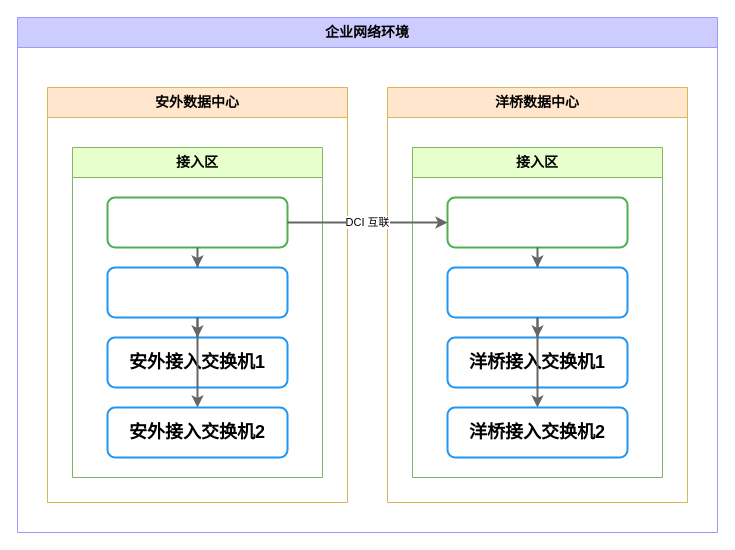
This 735x550 diagram has some shape labels left out. The centre of each missing label's shape, as x and y in pixels:
"安外核心路由器" belongs at (197,222).
"安外汇聚交换机" belongs at (197,292).
"洋桥核心路由器" belongs at (537,222).
"洋桥汇聚交换机" belongs at (537,292).
